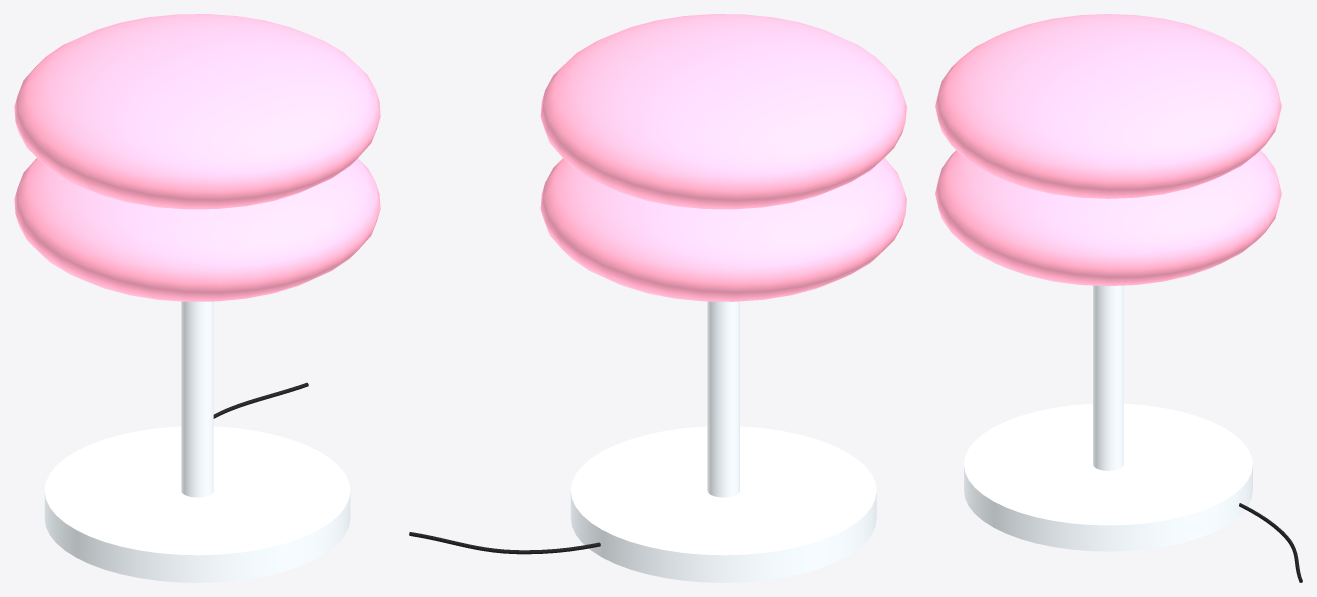
The model's file is ref08_06.glb.
The picture shows the model from 3 angles, left to right: view 1: azimuth 30°, elevation 25°; view 2: azimuth 150°, elevation 25°; view 3: azimuth 270°, elevation 25°; orthographic projection. The views are drawn at different scales.
Visible parts, largest first — view 1: ref08_06; view 2: ref08_06; view 3: ref08_06.
Part boxes in pixels (<box>): ref08_06: <box>14,14,380,582</box>; ref08_06: <box>409,14,906,582</box>; ref08_06: <box>935,14,1302,582</box>.
Bounding box in the file's own units: 0.4203 × 0.505 × 0.382.
